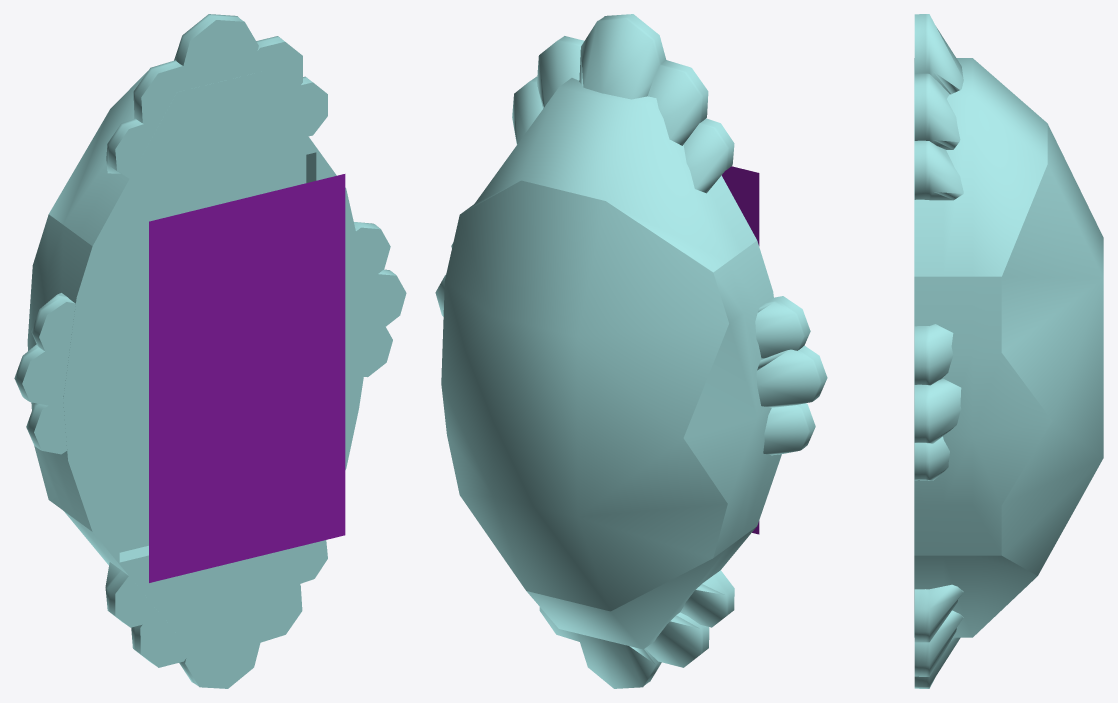
The model's file is MirrorWithDepth_alpha.FBX.
3 renders of one model, left to right at view 1: azimuth 30°, elevation 25°; view 2: azimuth 150°, elevation 25°; view 3: azimuth 270°, elevation 25°, orthographic.
Parts seen in each view (by area): view 1: Box001, Plane001; view 2: Box001, Plane001; view 3: Box001.
Boxes of the visible parts, left/top/right/bottom form: Box001: left=14, top=14, right=406, bottom=688; Plane001: left=149, top=174, right=345, bottom=582; Box001: left=435, top=14, right=827, bottom=688; Plane001: left=721, top=166, right=759, bottom=534; Box001: left=914, top=14, right=1103, bottom=688.
Bounding box in the file's own units: 59.74 × 99.79 × 33.4.
